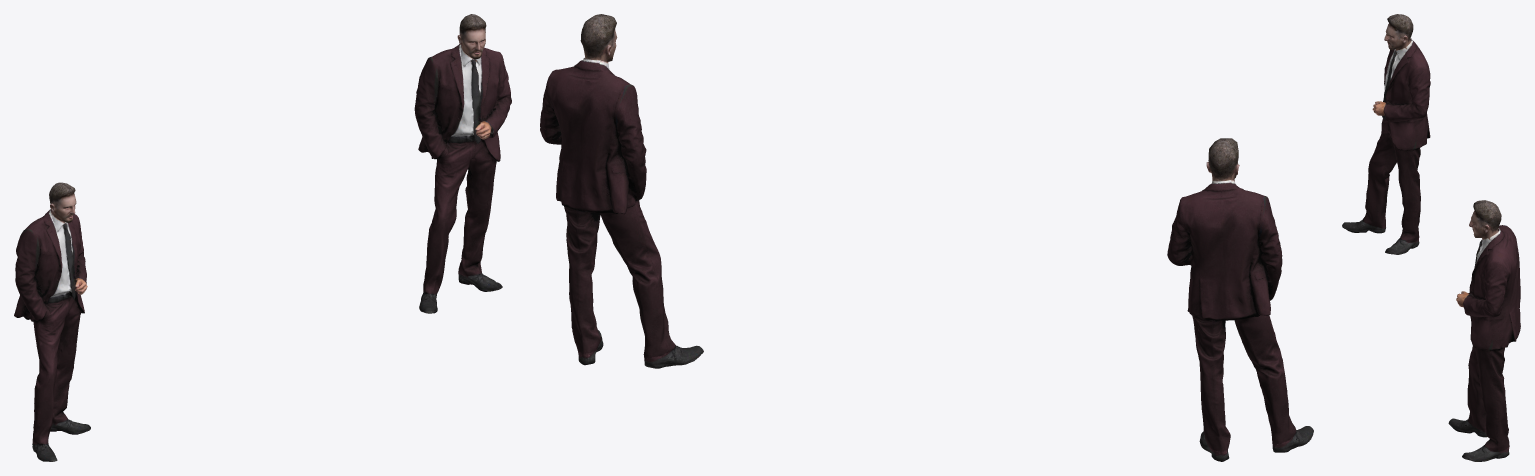
Rendered from men.glb.
3 views of the same model, side by side, from view 1: azimuth 30°, elevation 25°; view 2: azimuth 150°, elevation 25°; view 3: azimuth 270°, elevation 25° (orthographic). The views are drawn at different scales.
Parts seen in each view (by area): view 1: G-Object, G-, G-Object01; view 2: G-Object, G-, G-Object01; view 3: G-Object, G-, G-Object01.
Part boxes in pixels (bbox=[...]): G-Object: bbox=[414, 14, 511, 313]; G-: bbox=[14, 209, 90, 461]; G-Object01: bbox=[49, 182, 76, 225]; G-Object: bbox=[540, 14, 703, 368]; G-: bbox=[1167, 179, 1313, 461]; G-Object01: bbox=[1206, 138, 1239, 180]; G-Object: bbox=[1448, 200, 1520, 461]; G-: bbox=[1342, 38, 1430, 254]; G-Object01: bbox=[1384, 14, 1413, 54].
Size of the model in its own units: 4.09 by 1.95 by 1.25.
2 materials, 2 textured.
